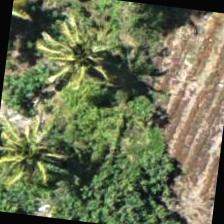Kelapa_Sawit: (23, 0, 124, 99), (0, 103, 80, 203)
